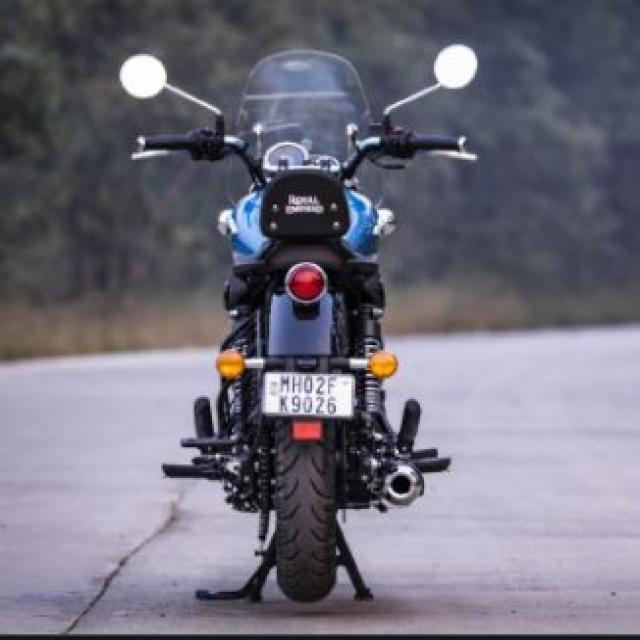license_plate: (259, 368, 355, 420)
